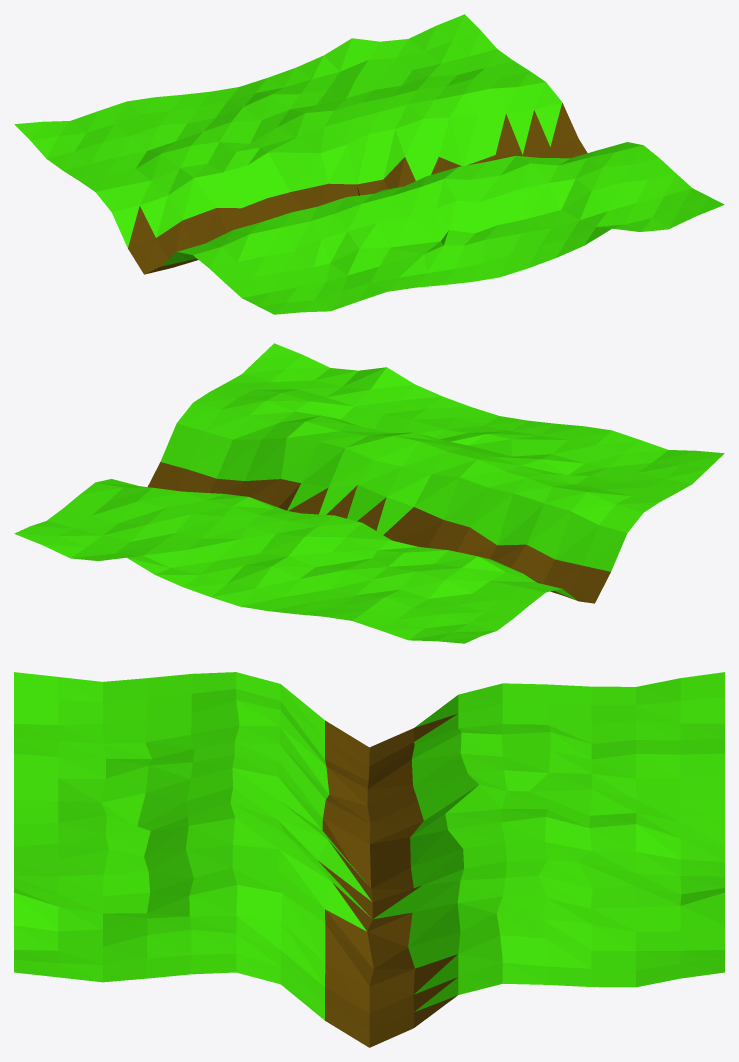
File: oja_bottom_1.fbx
3 views of the same model, one above another, from view 1: azimuth 30°, elevation 25°; view 2: azimuth 150°, elevation 25°; view 3: azimuth 270°, elevation 25° (orthographic). The views are drawn at different scales.
Parts seen in each view (by area): view 1: oja_B_1; view 2: oja_B_1; view 3: oja_B_1.
Boxes of the visible parts, <box> form: oja_B_1: <box>14,14,724,314</box>; oja_B_1: <box>14,343,724,643</box>; oja_B_1: <box>14,672,724,1047</box>.
Size of the model in its own units: 2000 by 309 by 2000.
